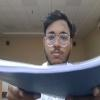notebook: (0, 53, 99, 98)
